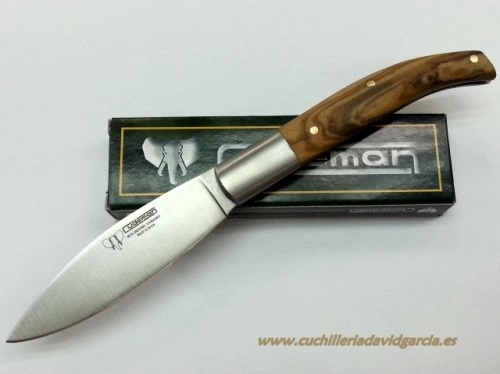knife: (4, 157, 256, 346)
